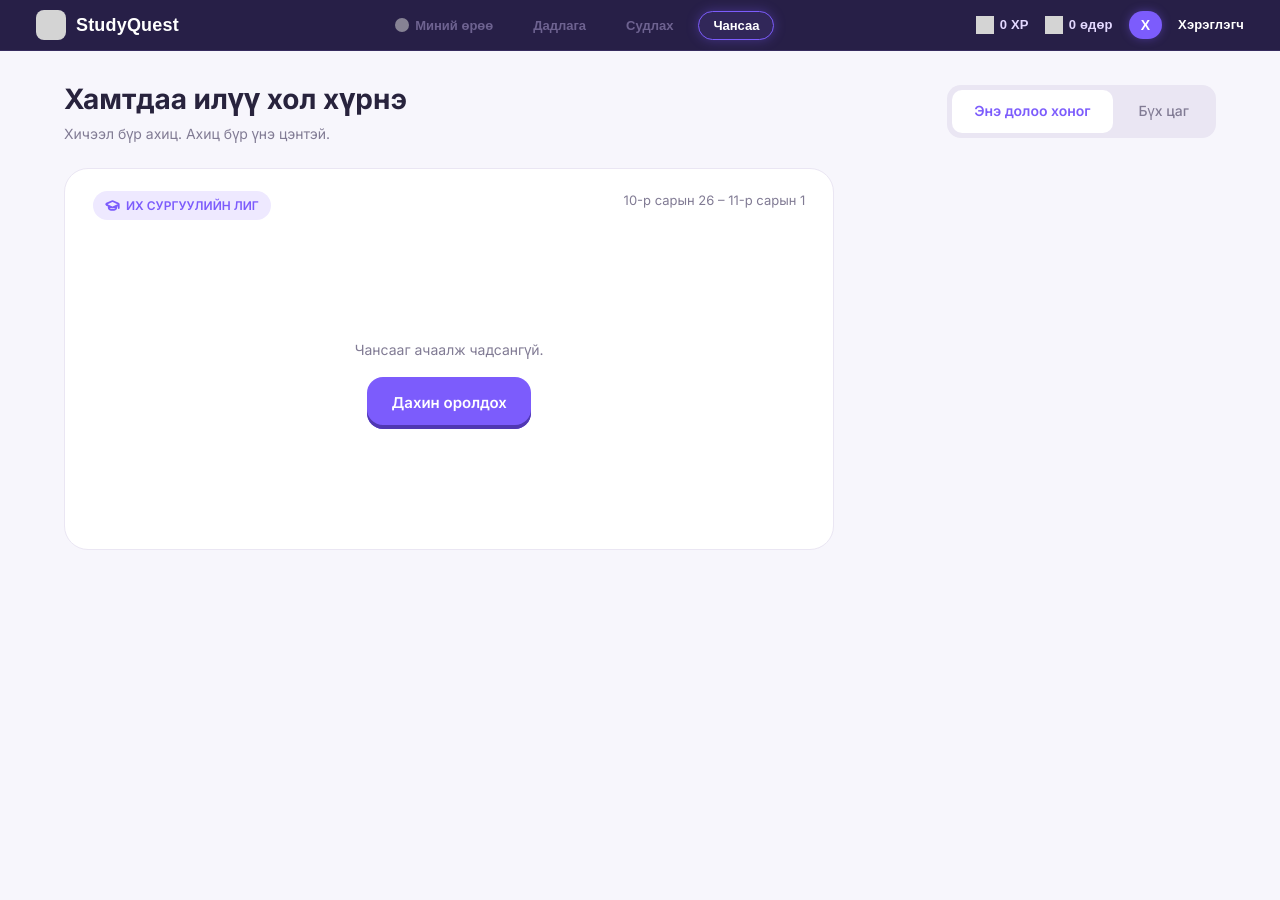
Scenario: Leaderboard › shows an error and recovers on retry
Expected: the message shows "Чансааг ачаалж чадсангүй.", x1=355 y1=341 x2=544 y2=358
Click the button "Дахин оролдох": (449,403) x1=368 y1=377 x2=531 y2=429
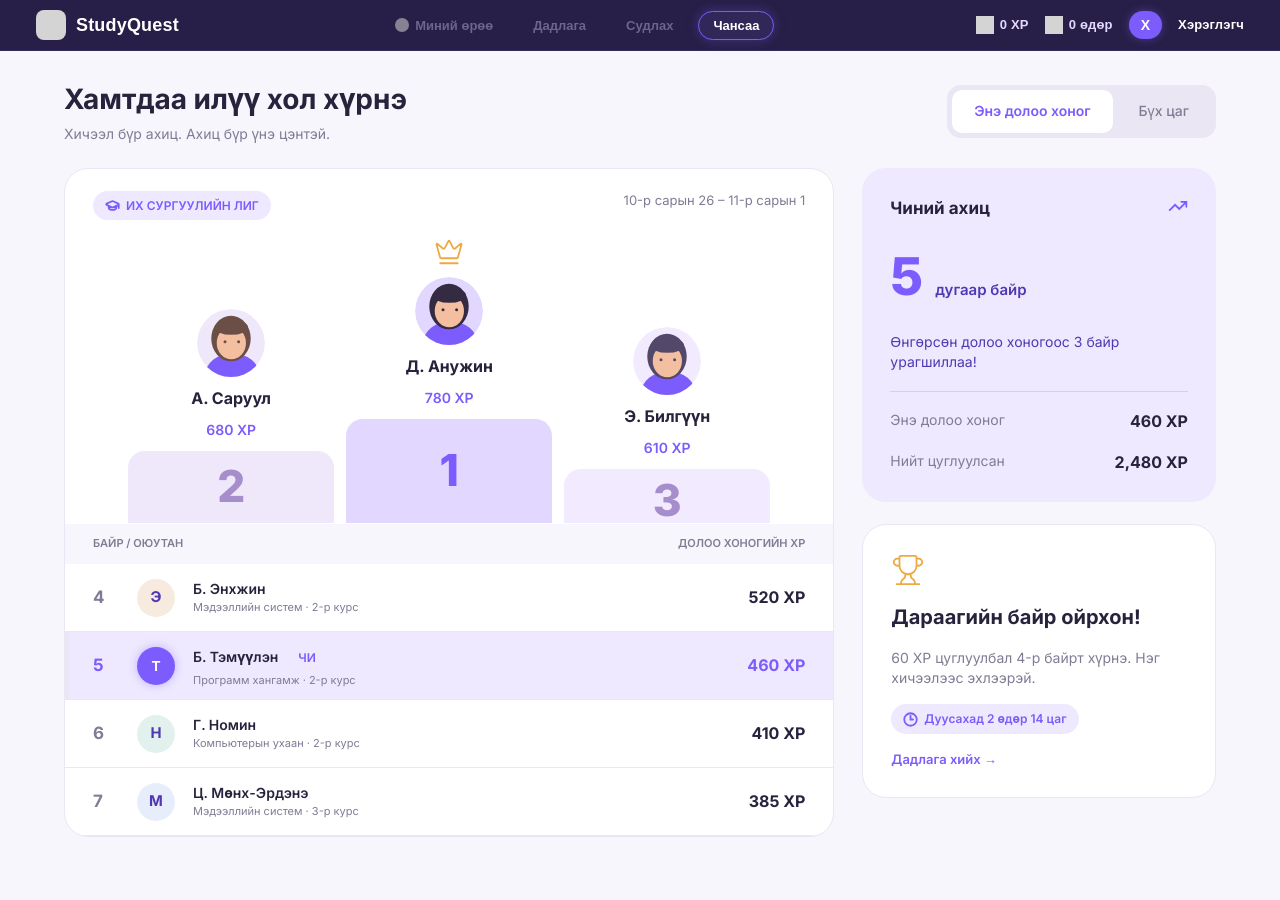
Now the list named "Шилдэг гурав" is shown, box x1=127 y1=237 x2=771 y2=524
